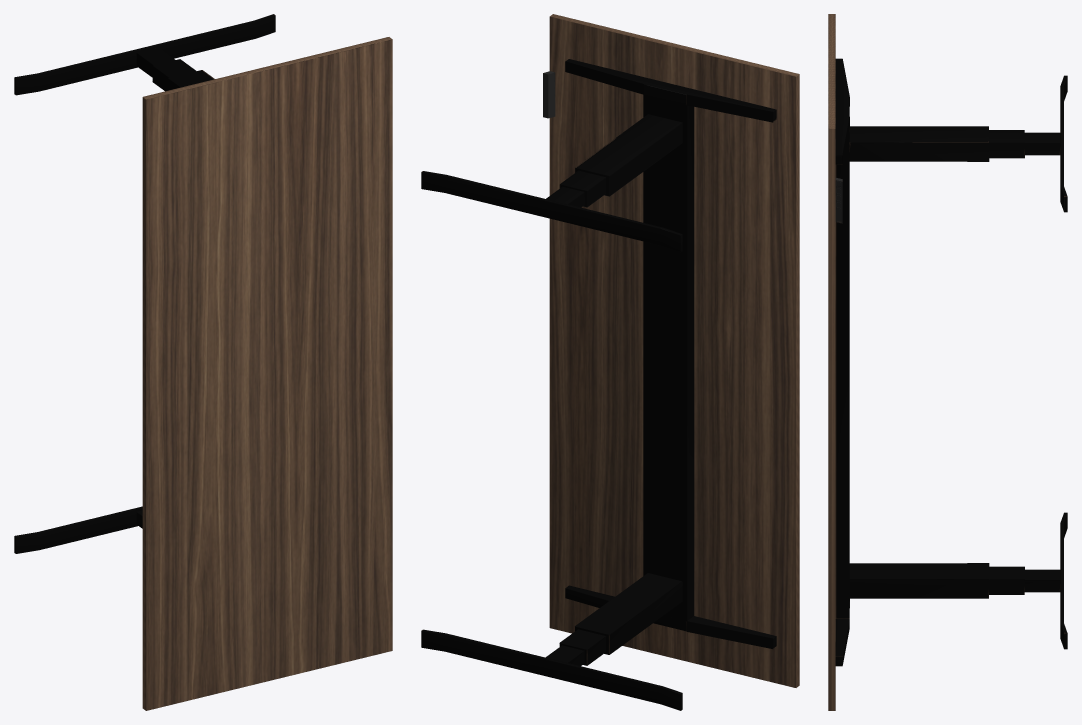
The model's file is RaisingDeskCGT.obj.
The picture shows the model from 3 angles, left to right: view 1: azimuth 30°, elevation 25°; view 2: azimuth 150°, elevation 25°; view 3: azimuth 270°, elevation 25°; orthographic projection. The views are drawn at different scales.
Visible parts, largest first — view 1: RaisingDesk.001_Cube.001; view 2: RaisingDesk.001_Cube.001; view 3: RaisingDesk.001_Cube.001.
Part boxes in pixels (x1,y1,x2,y2): RaisingDesk.001_Cube.001: (14, 14, 392, 710); RaisingDesk.001_Cube.001: (421, 14, 799, 710); RaisingDesk.001_Cube.001: (828, 14, 1067, 710).
Size of the model in its own units: 0.8 by 1.8 by 0.6699.
